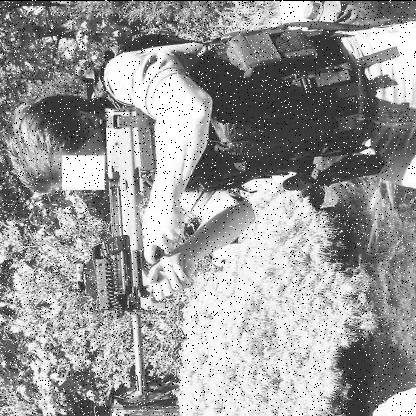rifle: (58, 95, 211, 397)
